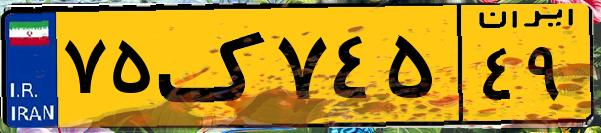4: (330, 28, 385, 110), (475, 38, 525, 113)
5: (385, 28, 445, 110), (110, 28, 158, 98)
7: (270, 28, 330, 110), (57, 26, 110, 100)
9: (525, 38, 570, 115)
ک: (158, 12, 270, 120)
